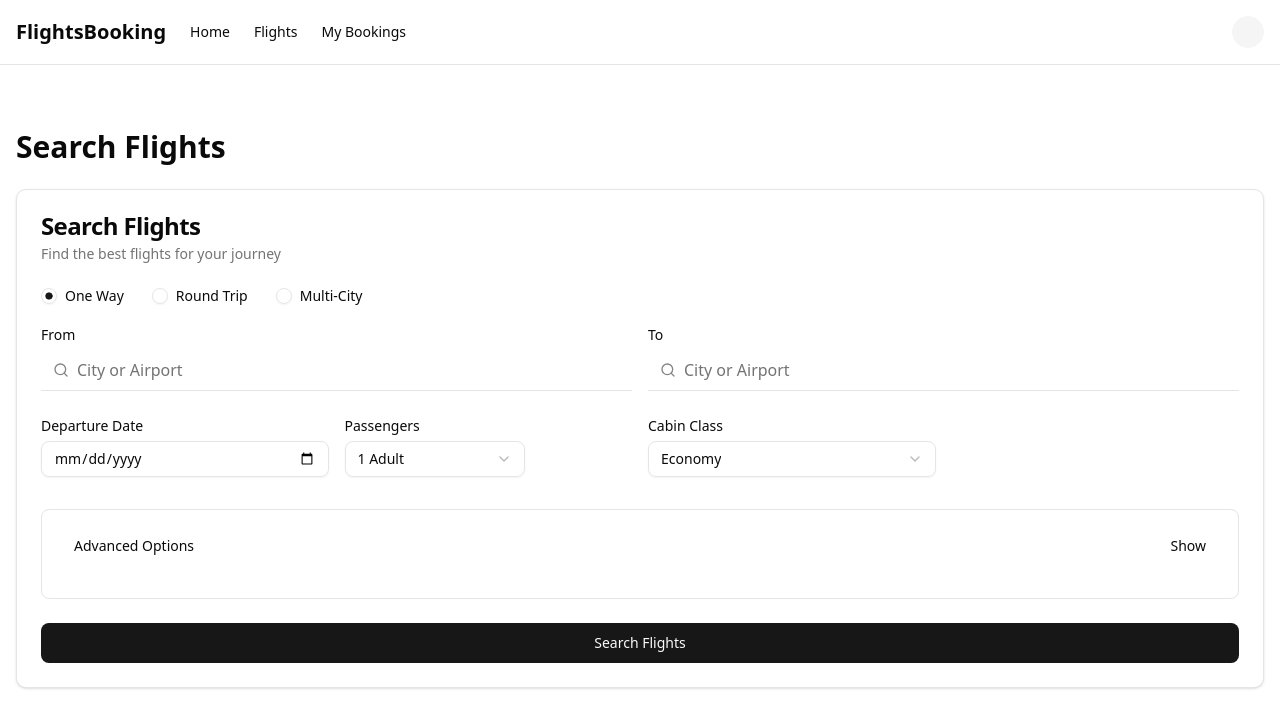
Test: Flight Search › should toggle return date field when selecting round trip
Expected: the text "return date" is not shown
# Select round trip
Click the text "Round Trip".
click(212, 296)  # box left=176, top=289, right=248, bottom=303
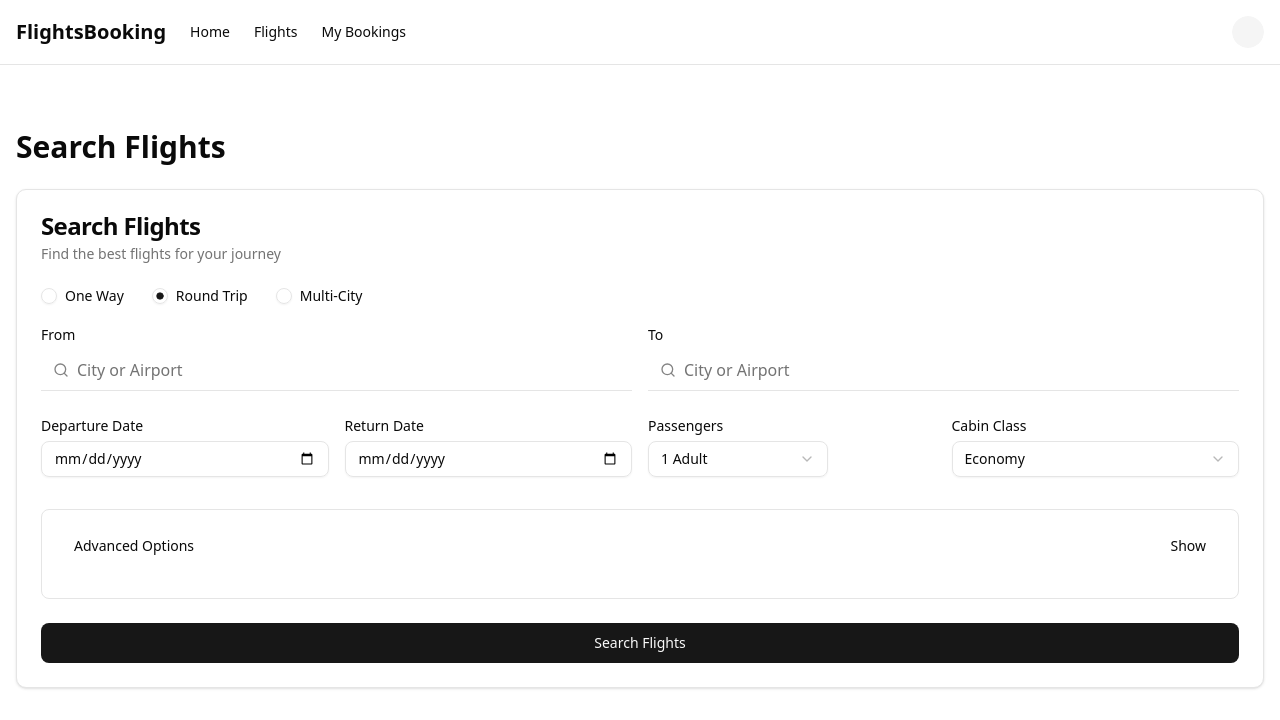
Result: the text "Return Date" is shown at left=344, top=416, right=424, bottom=435
# Switch back to one-way
Click the text "One Way".
click(95, 296)  # box left=65, top=289, right=124, bottom=303
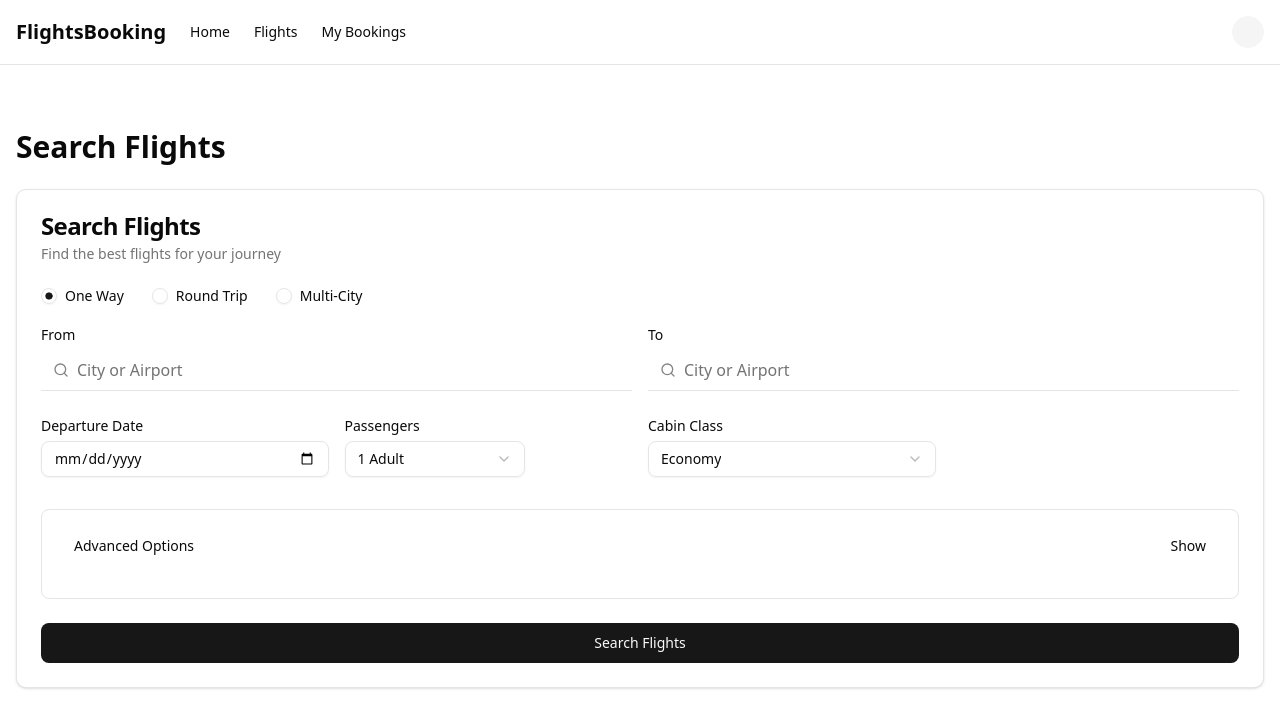
Result: the text "Return Date" is gone
